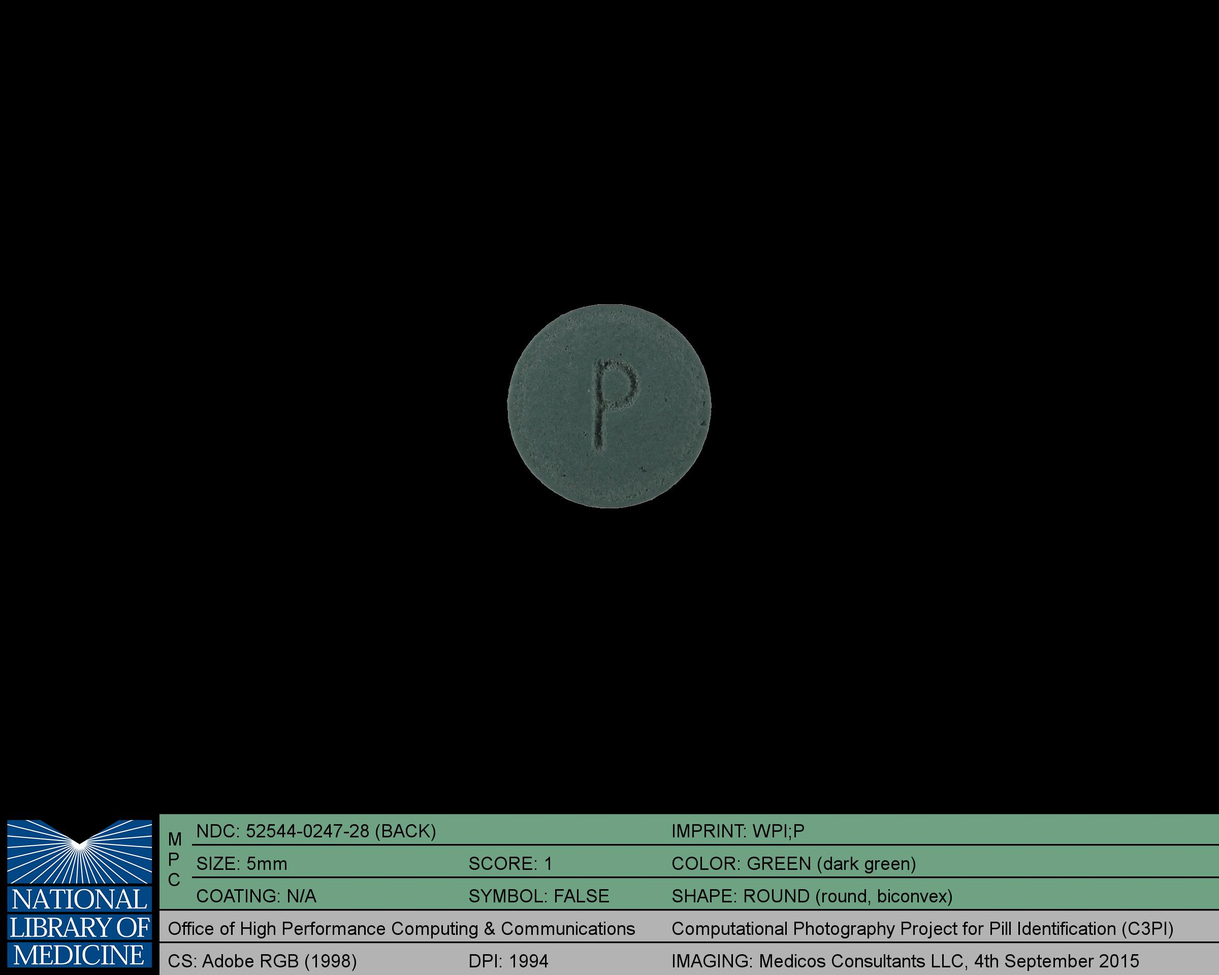Pill: (494, 291, 723, 516)
